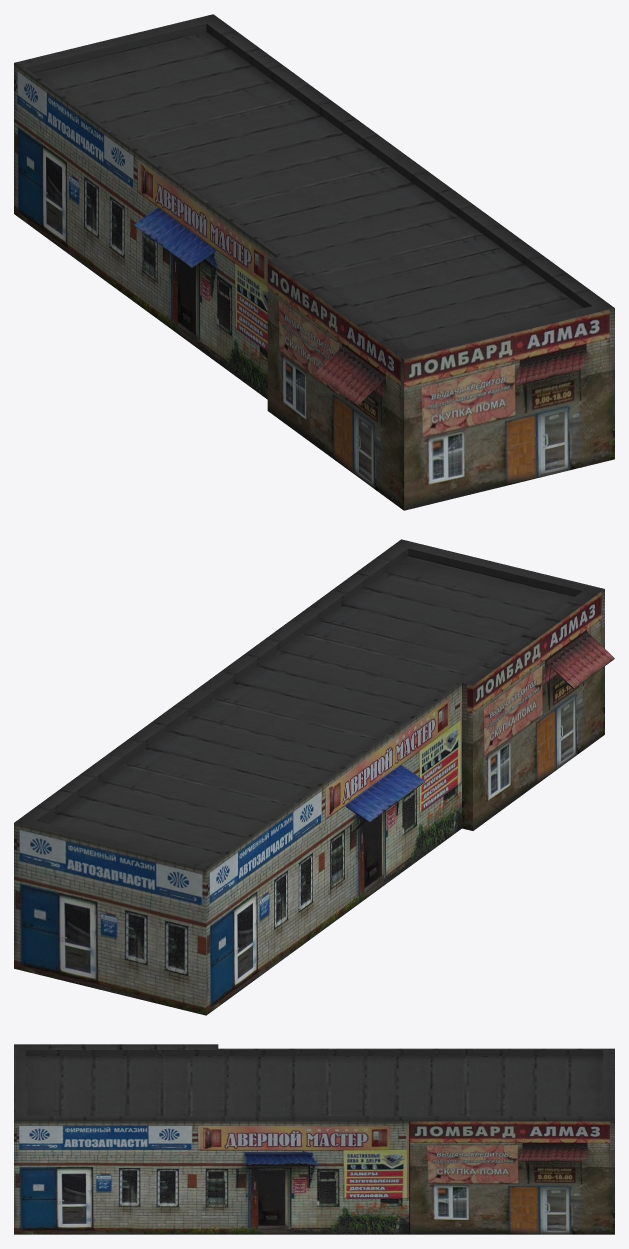
File: r402_ishim_minimags.FBX
3 renders of one model, top to bottom at view 1: azimuth 30°, elevation 25°; view 2: azimuth 150°, elevation 25°; view 3: azimuth 270°, elevation 25°, orthographic. The views are drawn at different scales.
Visible parts, largest first — view 1: Box001; view 2: Box001; view 3: Box001.
Boxes of the visible parts, x1,y1,x2,y2 form: Box001: (14, 14, 614, 510); Box001: (14, 539, 614, 1015); Box001: (14, 1044, 614, 1234).
Size of the model in its own units: 818 by 2372 by 493.
